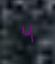four: (19, 20, 34, 43)
